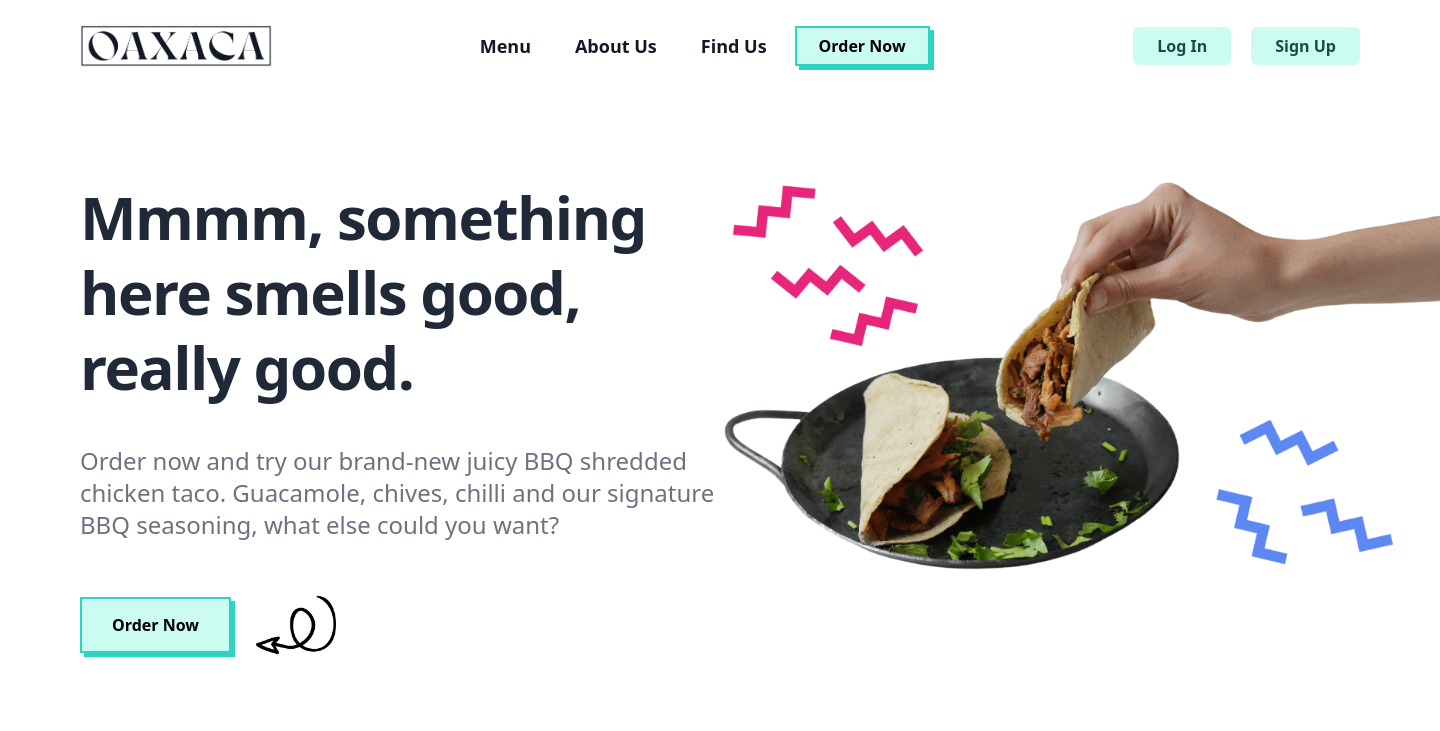
Test: Test clicking on Order Now button › Should navigate to the Order Now page and display the correct heading and information and options
Order Now button
Click the 3rd text with class "relative" at point(863, 46), box top-left (819, 35), bottom-right (906, 57)
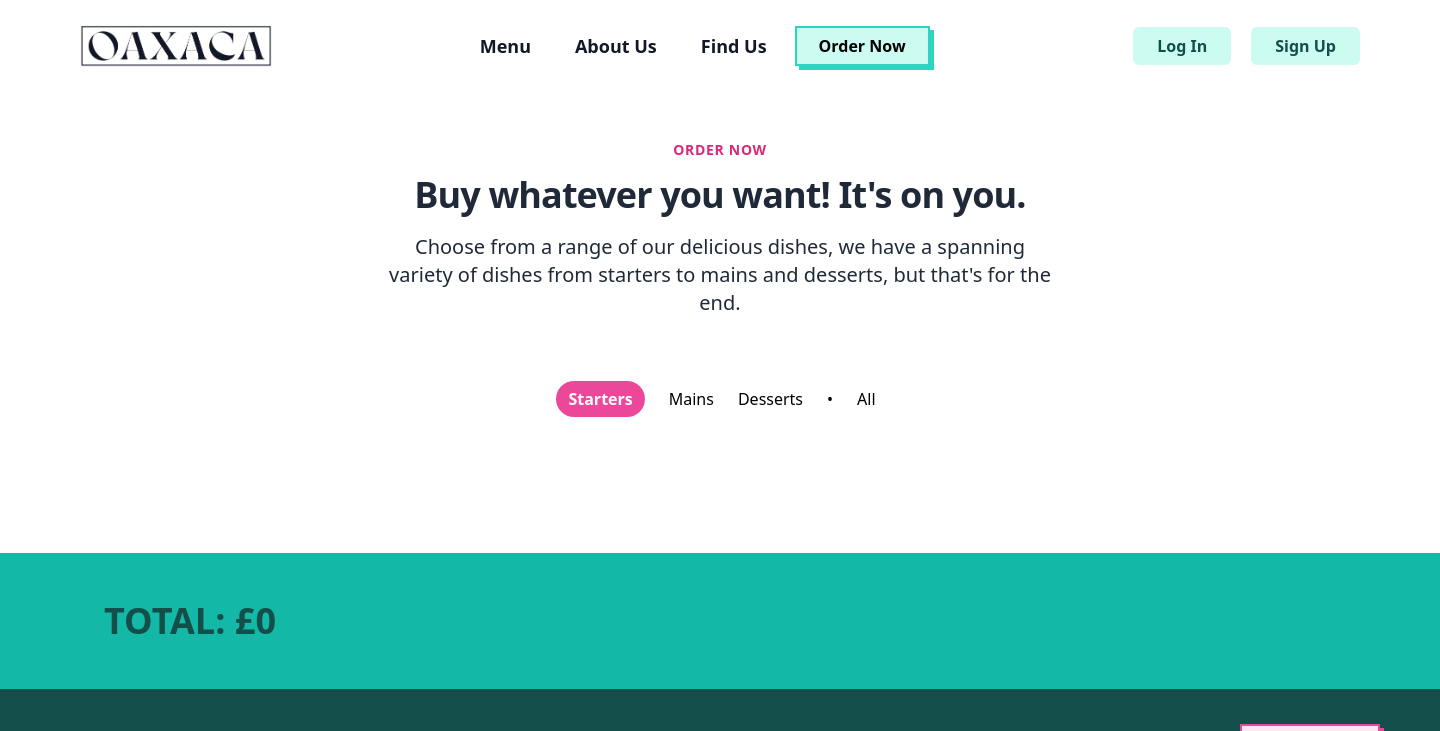
Expected: the heading "Buy whatever you want! It's on you." is shown, top-left (414, 172), bottom-right (1026, 217)
